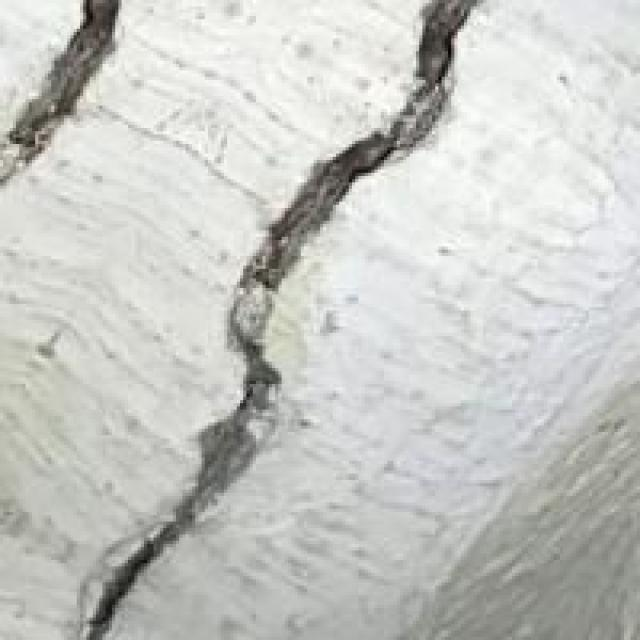Crack: (0, 3, 480, 624)
